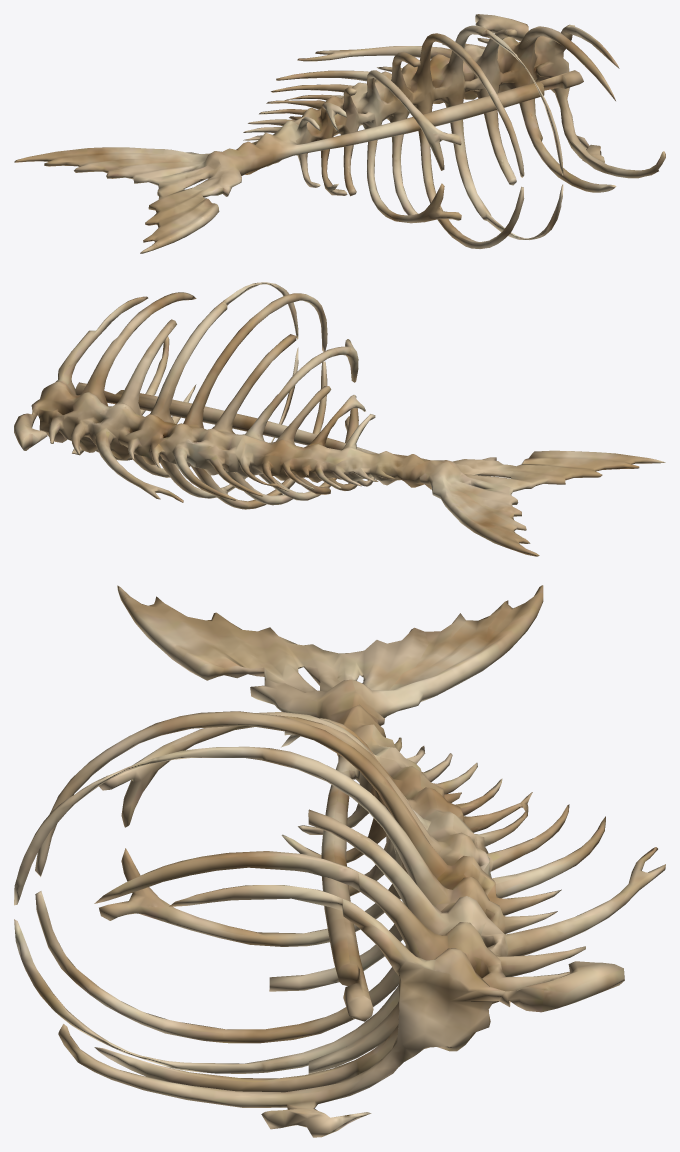
File: bone_broken_l.glb
3 views of the same model, one above another, from view 1: azimuth 30°, elevation 25°; view 2: azimuth 150°, elevation 25°; view 3: azimuth 270°, elevation 25° (orthographic). The views are drawn at different scales.
Parts seen in each view (by area): view 1: bone_broken_l; view 2: bone_broken_l; view 3: bone_broken_l.
Boxes of the visible parts, x1,y1,x2,y2 form: bone_broken_l: (14,14,665,253); bone_broken_l: (14,282,665,556); bone_broken_l: (14,585,665,1137).
Size of the model in its own units: 0.3 by 0.1077 by 0.1921.
Materials: 1 (1 with a texture image).
